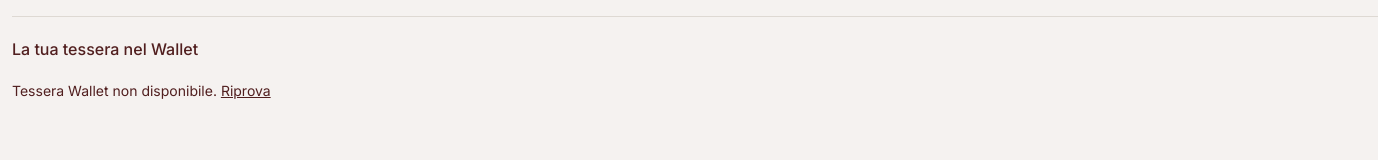
Test: member Wallet buttons › allows recovery after an unavailable backend without showing badges
The width and height of the screenshot is (1378, 160).
Expected: the message "Tessera Wallet non disponibile. Riprova" is shown, [12, 69, 271, 113]
What coordinates should you click on to do the following:
click the button "Riprova"
I would click on:
 (246, 91)
Its box is [221, 69, 271, 113].
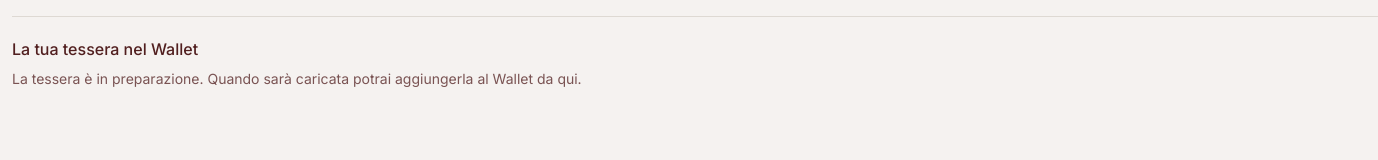
Expected: the text "La tessera è in preparazione" is shown, [12, 70, 582, 87]
